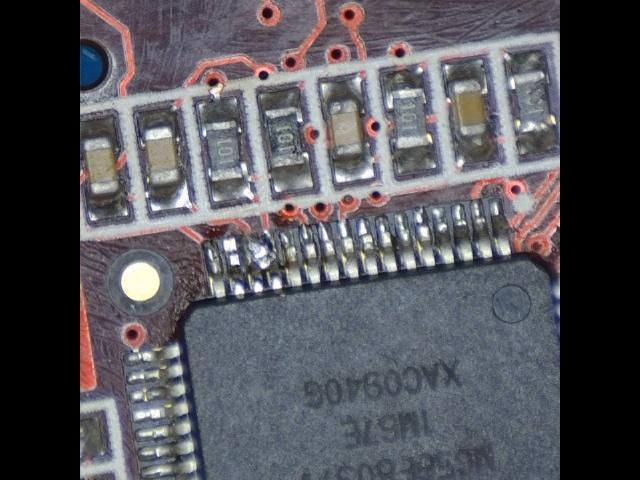Short_circuit: (248, 232, 284, 293)
